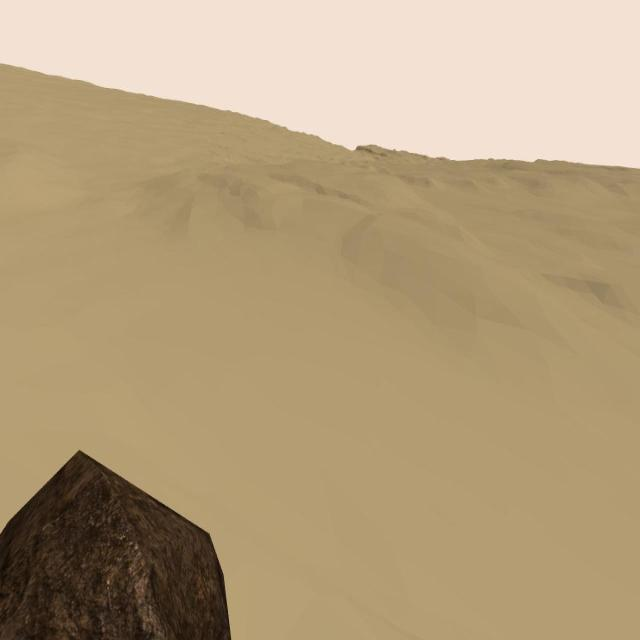rock: (0, 450, 232, 640)
